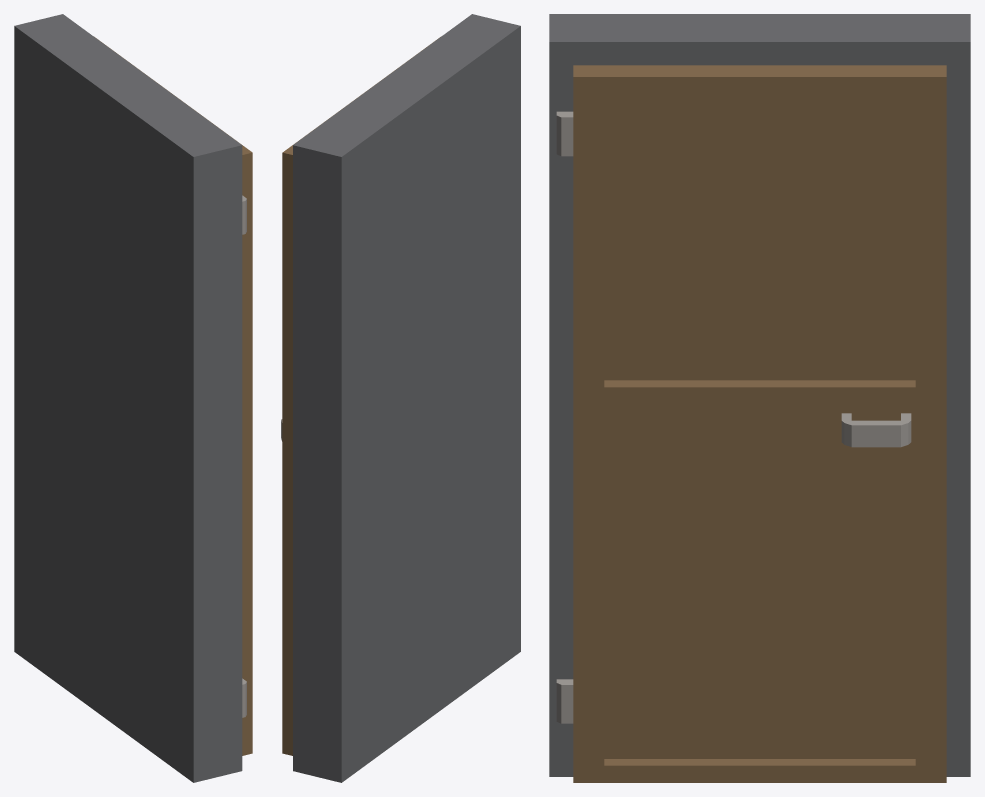
File: O_Enviroment_FakeDoor.fbx
3 renders of one model, left to right at view 1: azimuth 30°, elevation 25°; view 2: azimuth 150°, elevation 25°; view 3: azimuth 270°, elevation 25°, orthographic. The views are drawn at different scales.
Parts seen in each view (by area): view 1: pCube29; view 2: pCube29; view 3: pCube29.
Boxes of the visible parts, x1,y1,x2,y2 form: pCube29: (14, 14, 252, 782); pCube29: (281, 14, 520, 782); pCube29: (549, 14, 970, 782).
Bounding box in the file's own units: 0.6116 × 4.06 × 2.11.
